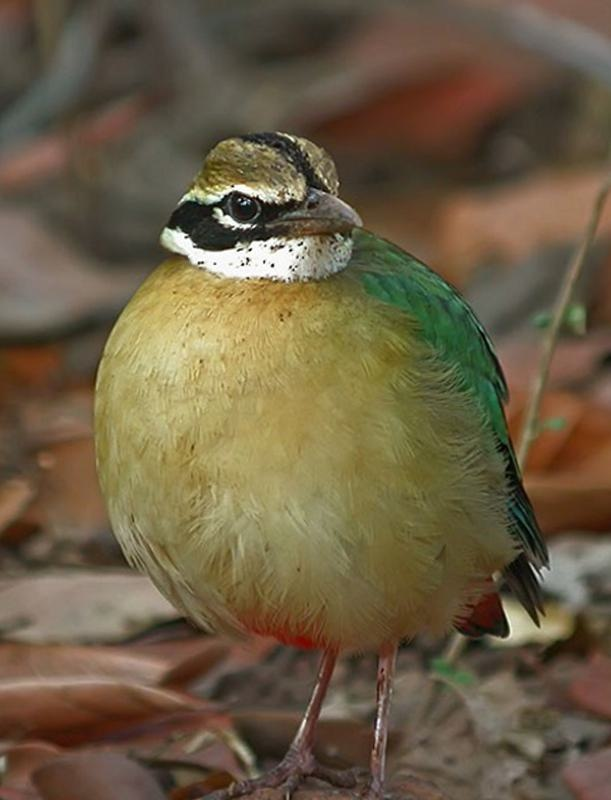pitta: (111, 62, 519, 735)
